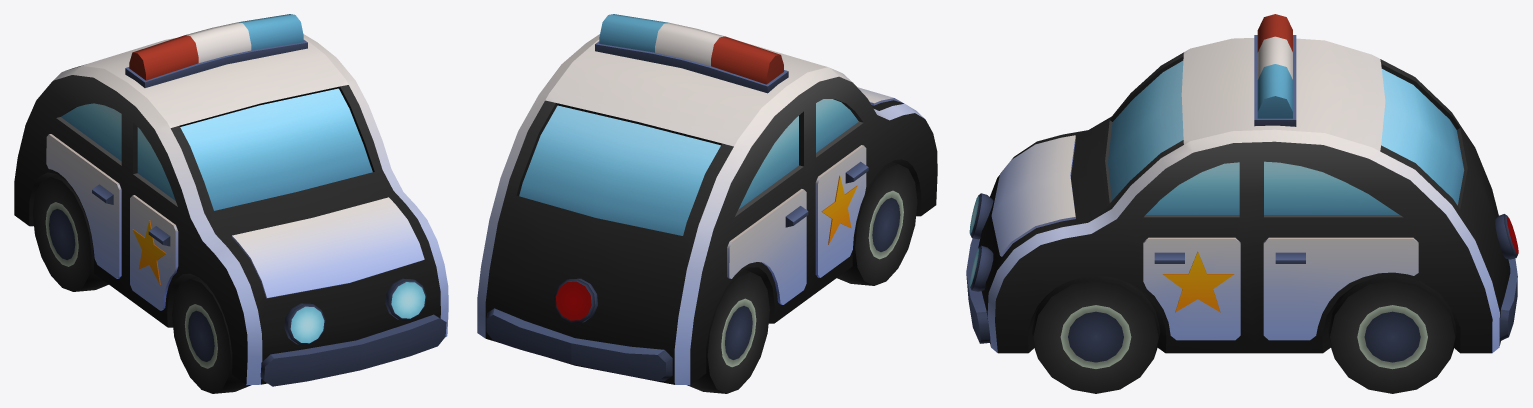
The model's file is Car_Police.fbx.
3 renders of one model, left to right at view 1: azimuth 30°, elevation 25°; view 2: azimuth 150°, elevation 25°; view 3: azimuth 270°, elevation 25°, orthographic. The views are drawn at different scales.
Visible parts, largest first — view 1: Car_Police; view 2: Car_Police; view 3: Car_Police.
Boxes of the visible parts, x1=… form: Car_Police: x1=14, y1=14, x2=448, y2=393; Car_Police: x1=477, y1=14, x2=937, y2=393; Car_Police: x1=966, y1=14, x2=1518, y2=393.
Bounding box in the file's own units: 152 × 183 × 310.
Materials: 5 (5 with a texture image).
